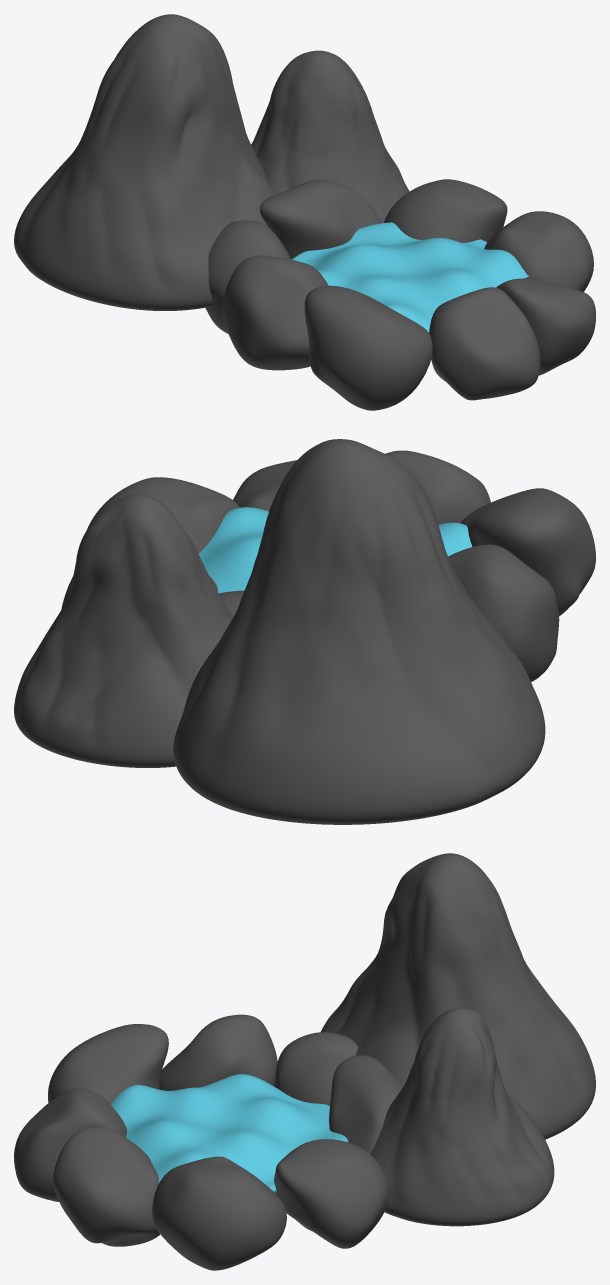
The model's file is hot-springs-animated-3d-icon-443146941501.glb.
3 views of the same model, one above another, from view 1: azimuth 30°, elevation 25°; view 2: azimuth 150°, elevation 25°; view 3: azimuth 270°, elevation 25° (orthographic). The views are drawn at different scales.
Parts seen in each view (by area): view 1: Mountain, Stones, Water.001; view 2: Mountain, Stones, Water.001; view 3: Mountain, Stones, Water.001.
Part boxes in pixels (x1,y1,x2,y2): Mountain: (14, 14, 409, 310); Stones: (205, 179, 595, 410); Water.001: (292, 222, 528, 332); Mountain: (14, 439, 545, 824); Stones: (61, 450, 595, 681); Water.001: (198, 507, 472, 593); Mountain: (321, 853, 595, 1226); Stones: (14, 1014, 403, 1270); Water.001: (111, 1074, 348, 1194).
Size of what is drawn, in the model's own units: 2.57 by 1.59 by 2.89.
